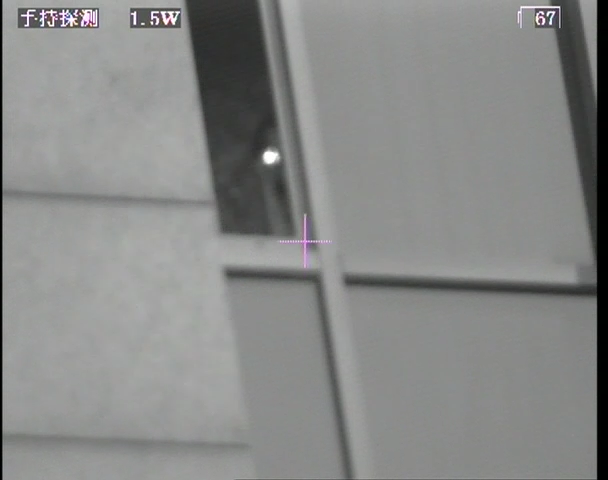my: (260, 148, 279, 165)
